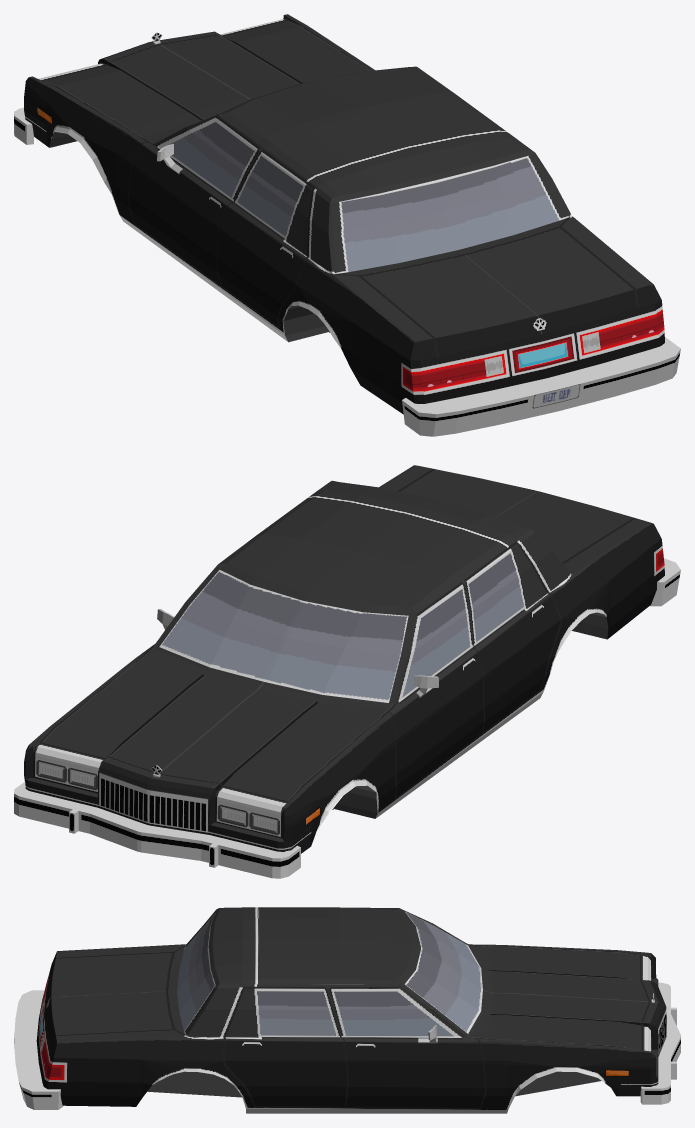
Rendered from 85fifthavenue.fbx.
The picture shows the model from 3 angles, top to bottom: view 1: azimuth 30°, elevation 25°; view 2: azimuth 150°, elevation 25°; view 3: azimuth 270°, elevation 25°; orthographic projection. The views are drawn at different scales.
Visible parts, largest first — view 1: 85fifthaveneue; view 2: 85fifthaveneue; view 3: 85fifthaveneue.
Boxes of the visible parts, bbox=[...] form: 85fifthaveneue: bbox=[14, 14, 680, 436]; 85fifthaveneue: bbox=[14, 465, 680, 878]; 85fifthaveneue: bbox=[14, 907, 680, 1113].
Bounding box in the file's own units: 2.07 × 1.12 × 5.36.
